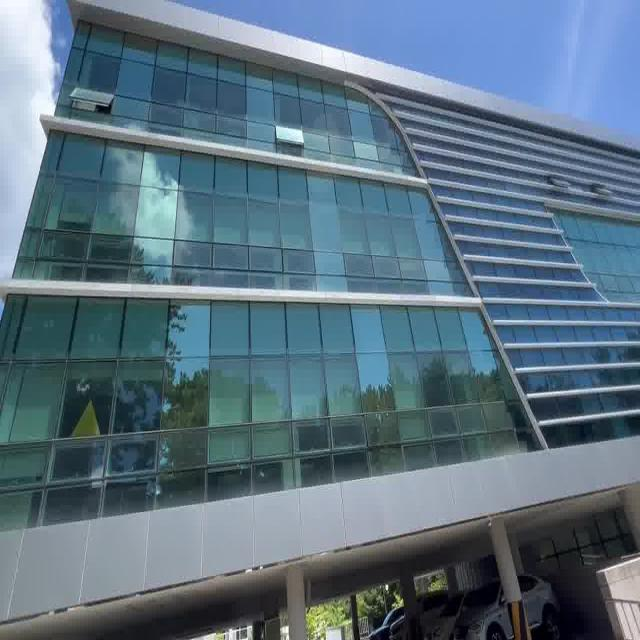building: (13, 18, 640, 588)
